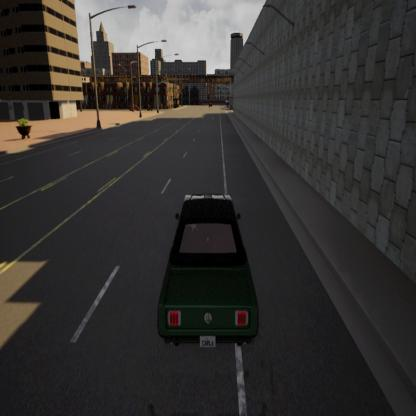Cars: (152, 186, 263, 358)
